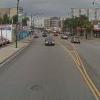Car: (39, 27, 57, 54)
